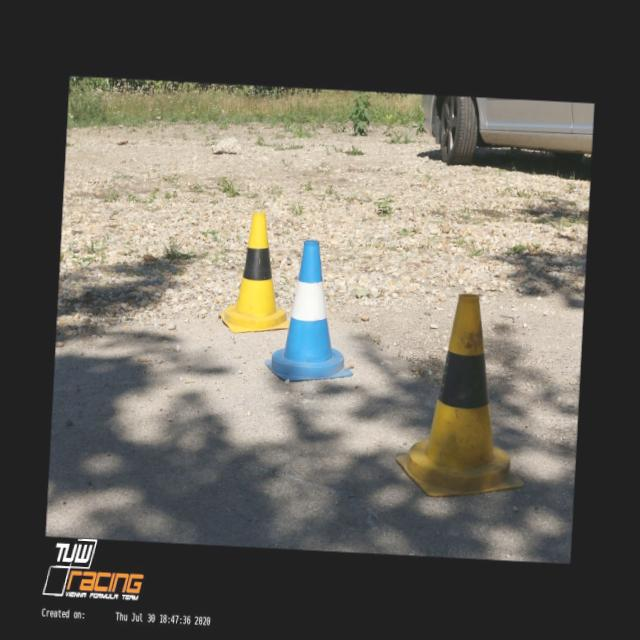blue_cone: (264, 237, 360, 385)
yellow_cone: (394, 289, 532, 499), (218, 210, 296, 335)
